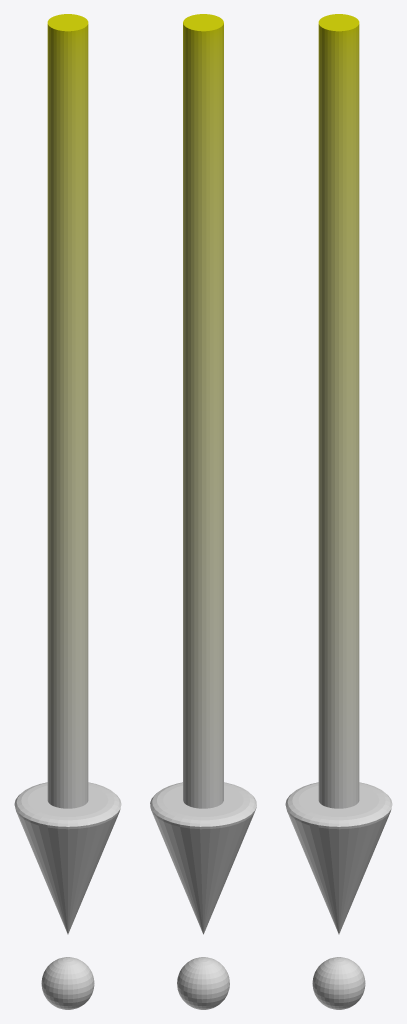
Rendered from MBSGizmo.fbx.
3 renders of one model, left to right at view 1: azimuth 90°, elevation 25°; view 2: azimuth 210°, elevation 25°; view 3: azimuth 270°, elevation 25°, orthographic.
Parts seen in each view (by area): view 1: MBSGizmo; view 2: MBSGizmo; view 3: MBSGizmo.
Part boxes in pixels (x1,y1,x2,y2): MBSGizmo: (14, 14, 121, 1009); MBSGizmo: (150, 14, 256, 1009); MBSGizmo: (285, 14, 392, 1009).
Size of the model in its own units: 20.2 by 205 by 20.2.
